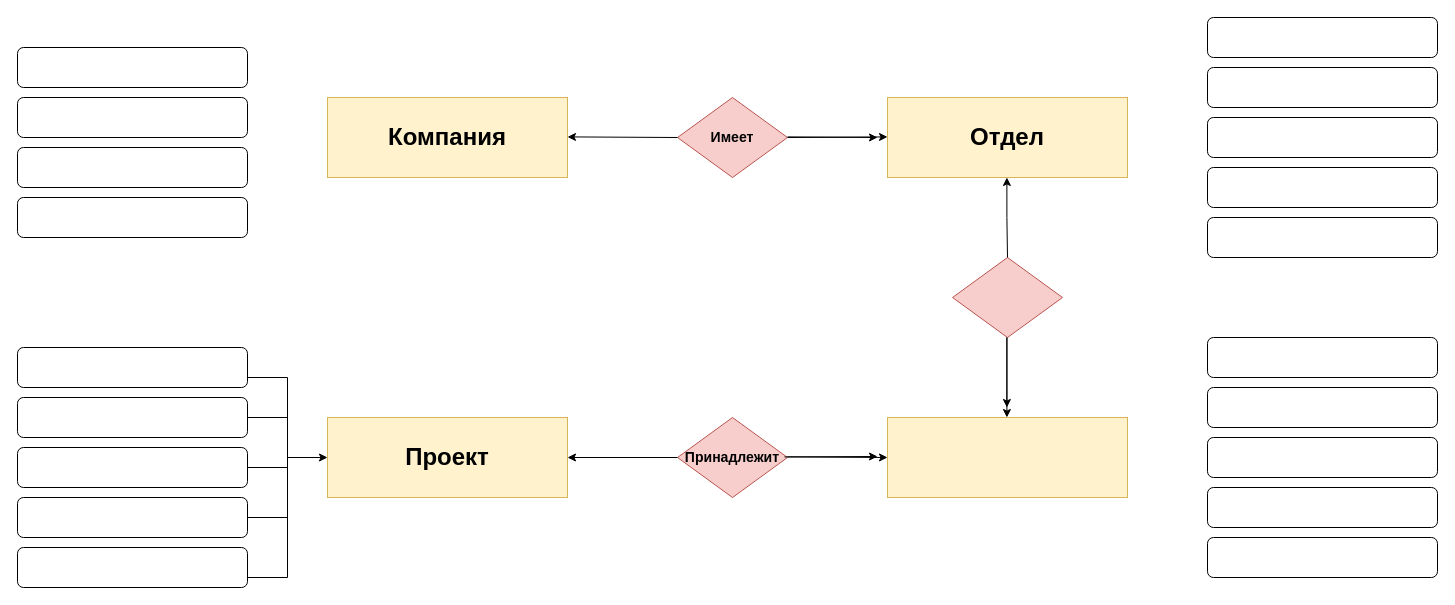
Some shapes in this 1455 by 605 pixel diagram are drawn without their labels. Here are the shapes that lost their labels. From the top down, the box of each, then its label:
(952, 256, 1062, 338): Включает
(886, 416, 1128, 498): Сотрудники
